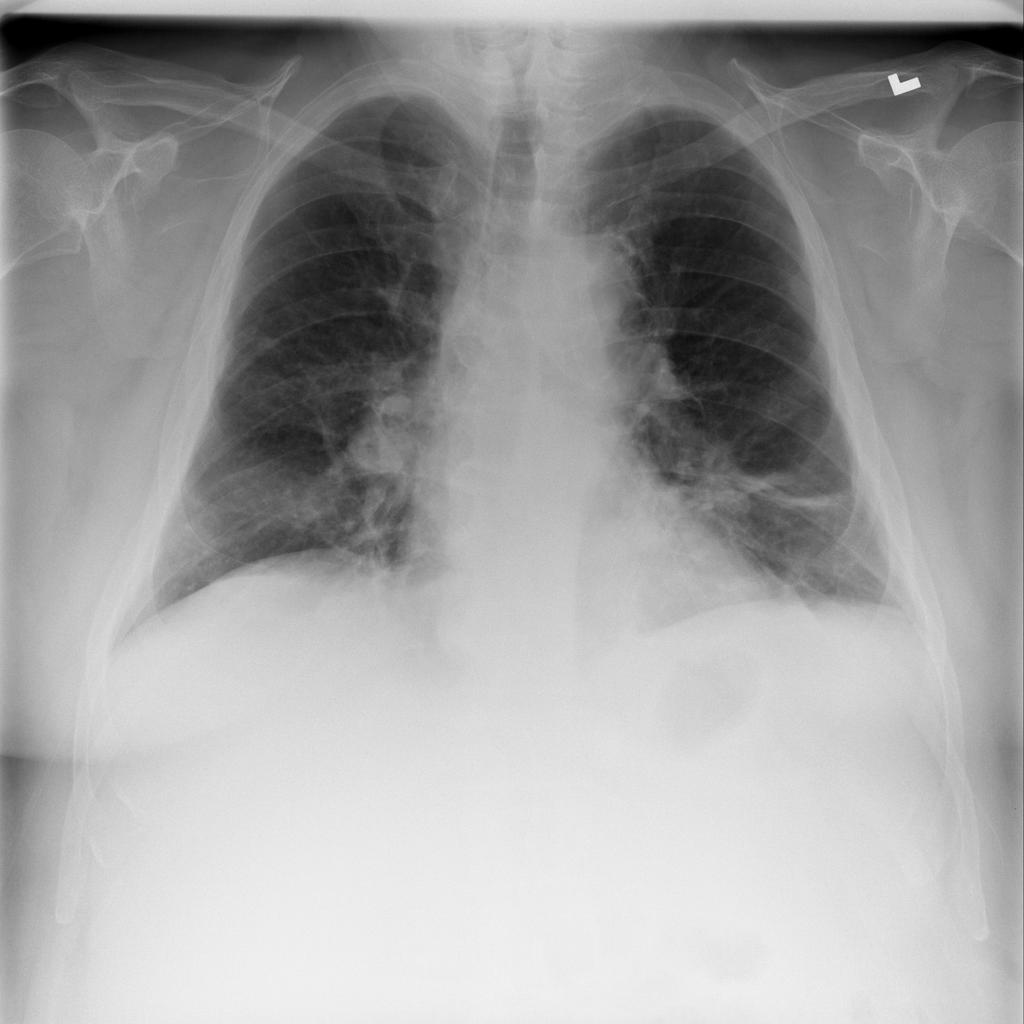nodule: (345, 405, 423, 485), (238, 319, 296, 365)
